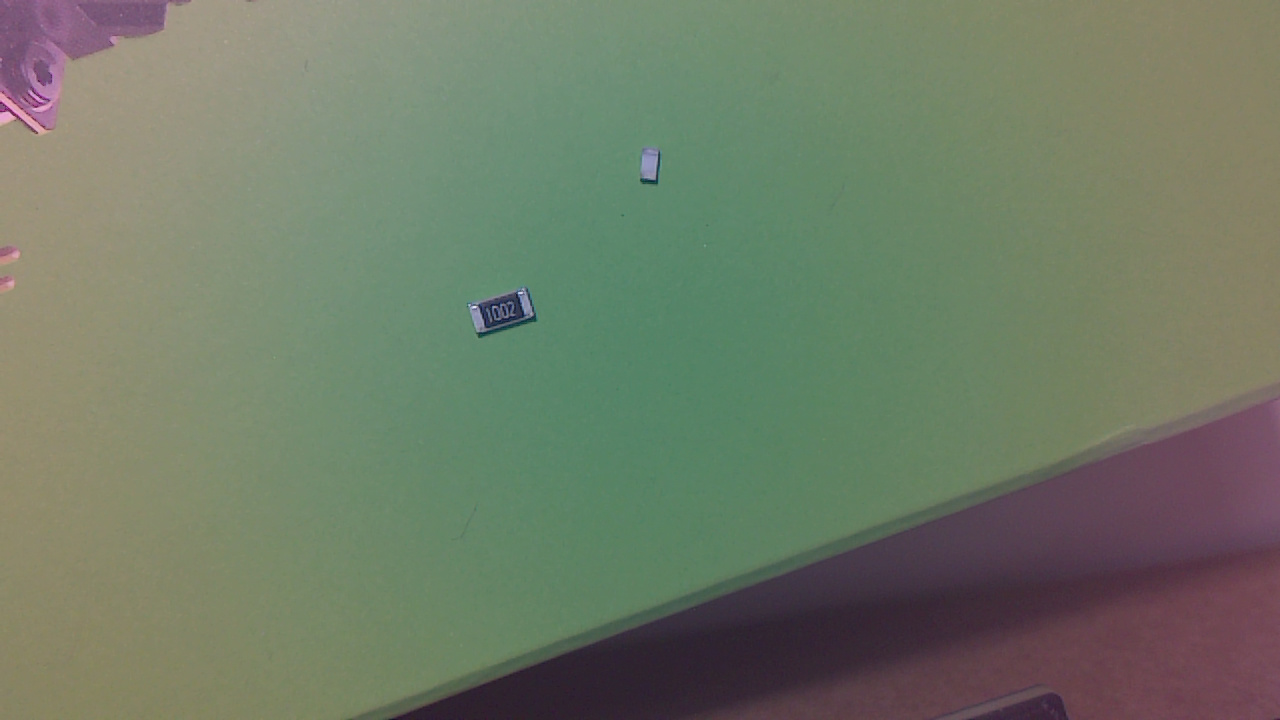Resistor: (473, 291, 545, 347)
